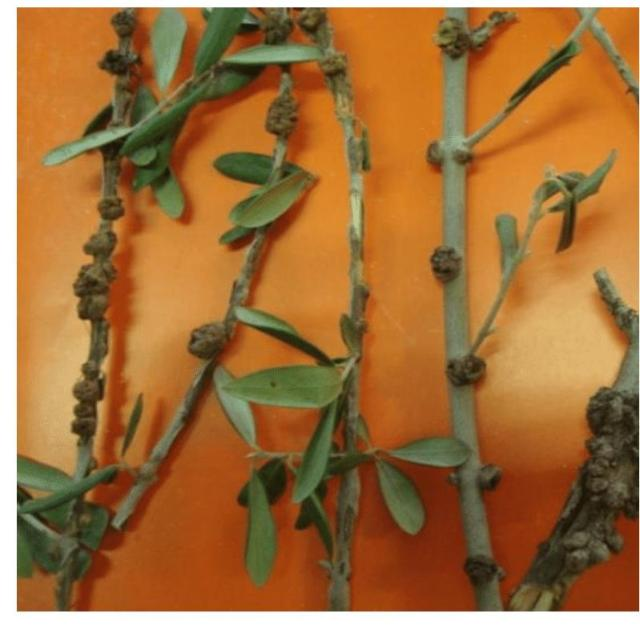Tuberculosis: (523, 387, 639, 589), (71, 191, 123, 445), (265, 84, 298, 145), (188, 317, 231, 363), (436, 16, 478, 59), (464, 549, 503, 589), (446, 351, 485, 388), (261, 8, 294, 46), (430, 245, 461, 285), (99, 49, 139, 79), (111, 8, 137, 40)
